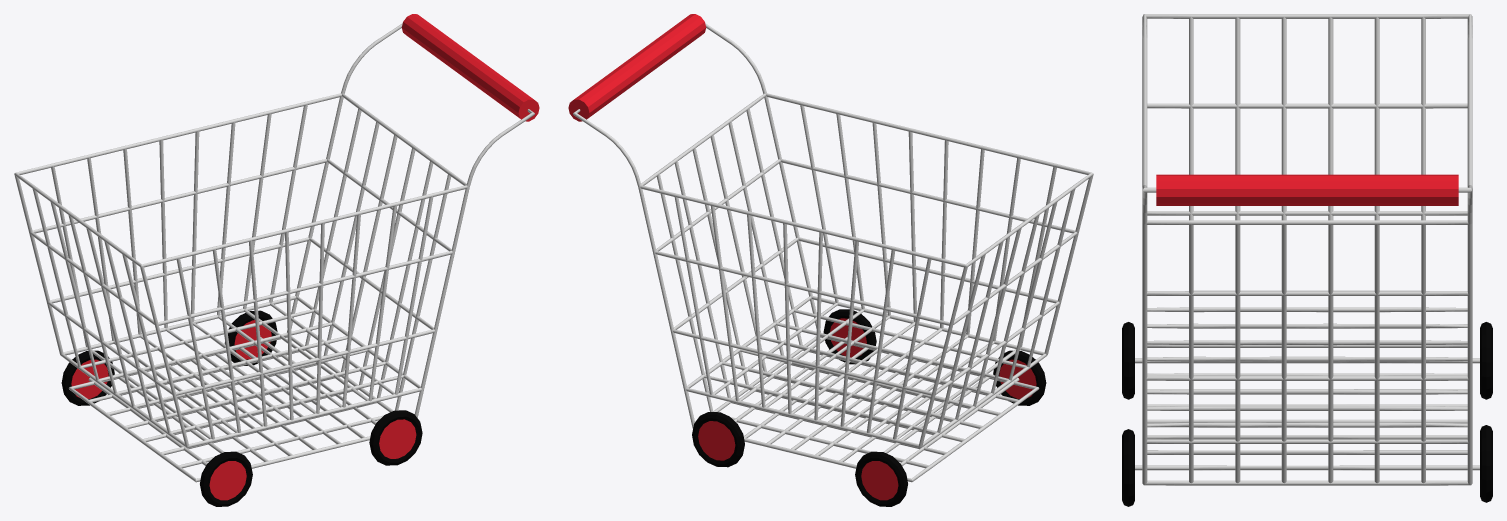
File: Cart.fbx
3 renders of one model, left to right at view 1: azimuth 30°, elevation 25°; view 2: azimuth 150°, elevation 25°; view 3: azimuth 270°, elevation 25°, orthographic. The views are drawn at different scales.
Parts seen in each view (by area): view 1: wagen, festhalten, rad, rad2, rad3, rad4; view 2: wagen, festhalten, rad3, rad4, rad2, rad; view 3: wagen, festhalten, rad, rad4, rad2, rad3.
Boxes of the visible parts, left/top/right/bottom form: wagen: left=14, top=23, right=534, bottom=482; festhalten: left=401, top=14, right=539, bottom=121; rad: left=369, top=410, right=422, bottom=465; rad2: left=200, top=451, right=252, bottom=506; rad3: left=61, top=350, right=114, bottom=405; rad4: left=224, top=310, right=277, bottom=365; wagen: left=573, top=23, right=1093, bottom=482; festhalten: left=568, top=14, right=706, bottom=121; rad3: left=855, top=451, right=907, bottom=506; rad4: left=692, top=412, right=744, bottom=467; rad2: left=993, top=350, right=1046, bottom=405; rad: left=823, top=309, right=876, bottom=364; wagen: left=1135, top=14, right=1479, bottom=485; festhalten: left=1156, top=174, right=1458, bottom=205; rad: left=1122, top=429, right=1134, bottom=506; rad4: left=1480, top=425, right=1492, bottom=502; rad2: left=1122, top=322, right=1134, bottom=399; rad3: left=1480, top=322, right=1492, bottom=399.
Bounding box in the file's own units: 371 × 284 × 228.
